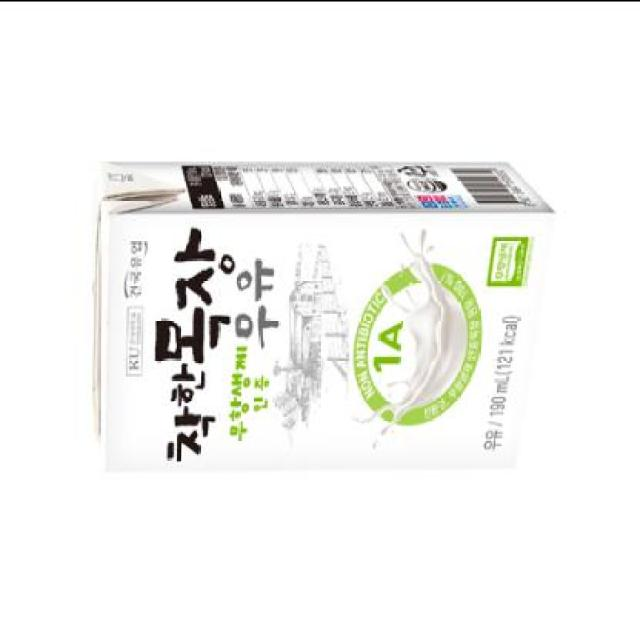tetra: (49, 138, 580, 498)
